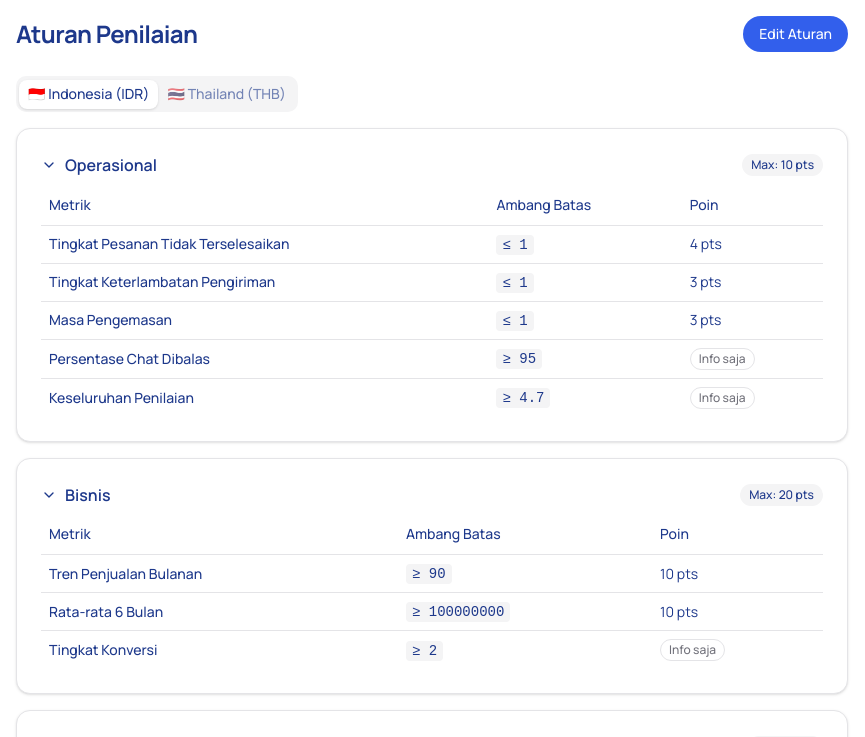
Scenario: Edit mode › Save Changes enabled after modifying value
The width and height of the screenshot is (865, 737).
Click the button "Edit Aturan" at (796, 34), box [743, 16, 848, 52]
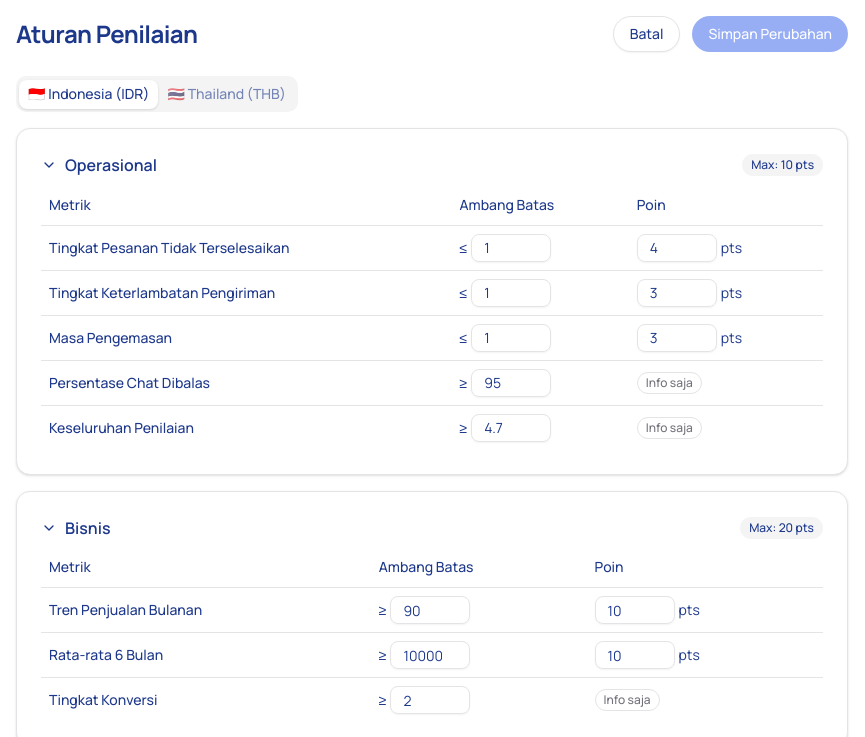
Replace the text in the number field named "unfulfilled_order_rate threshold" with "99" at (511, 248), box [471, 234, 551, 262]
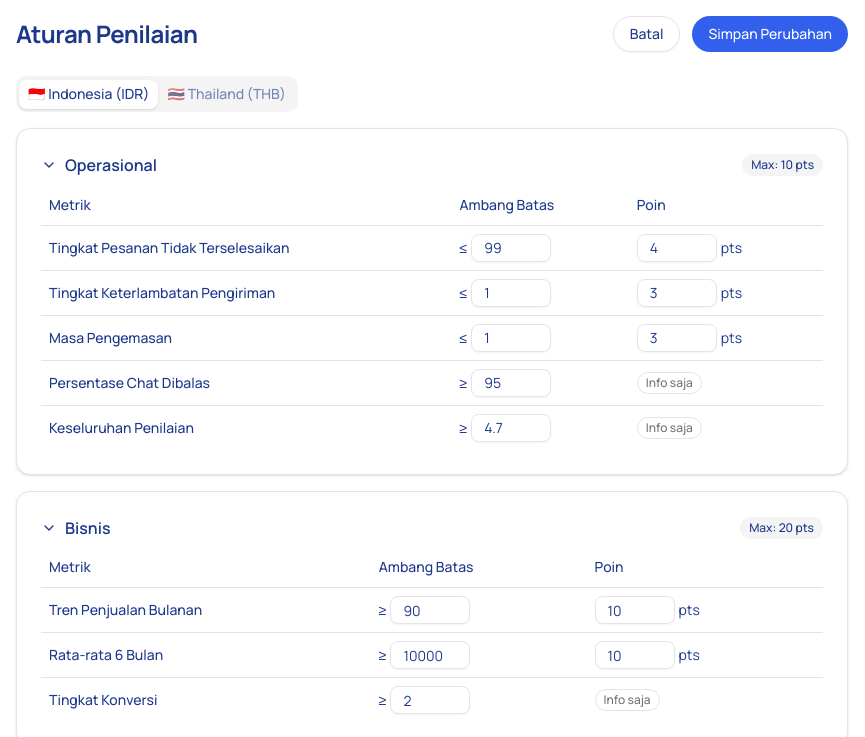
Result: the button "Simpan Perubahan" is enabled at [692, 16, 848, 52]
